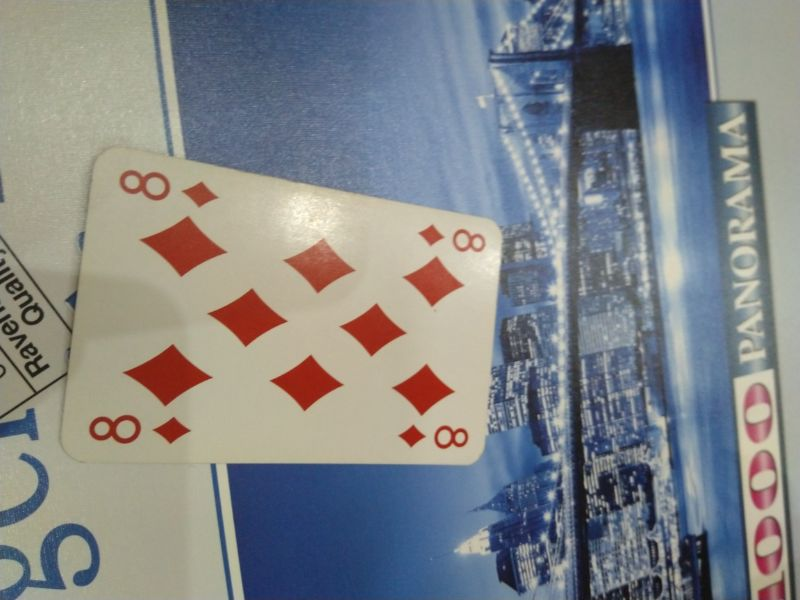8d: (118, 160, 222, 211), (82, 408, 195, 448), (412, 219, 488, 257), (393, 416, 472, 451)
